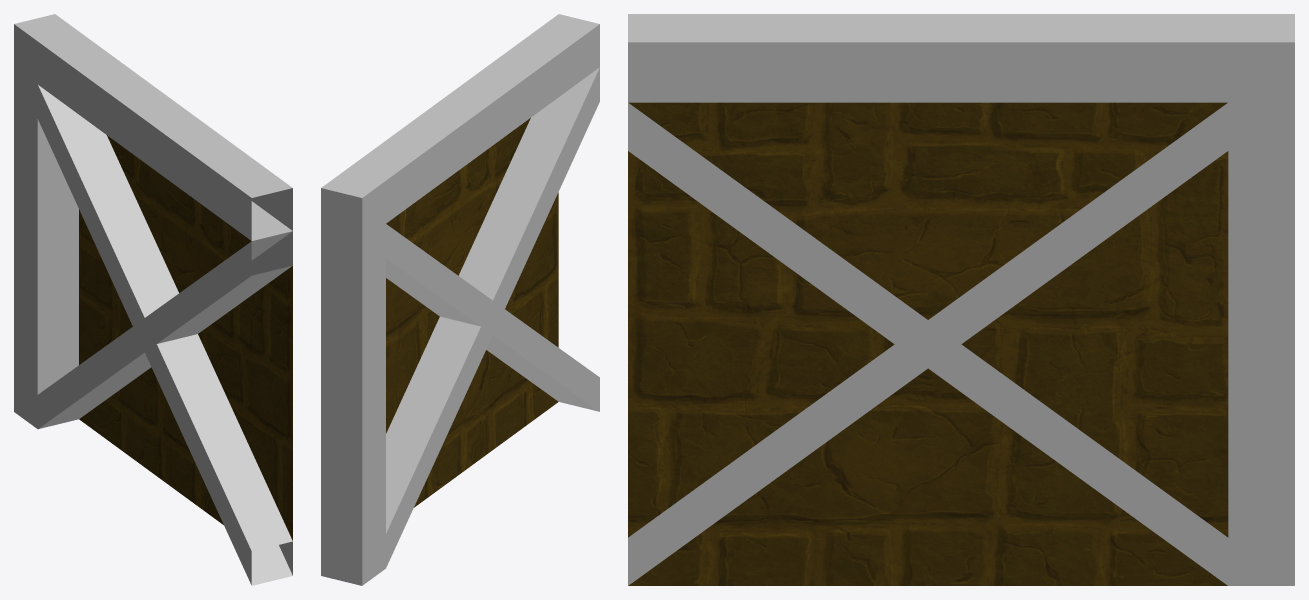
Rendered from WallCrossJoin.fbx.
3 views of the same model, side by side, from view 1: azimuth 30°, elevation 25°; view 2: azimuth 150°, elevation 25°; view 3: azimuth 270°, elevation 25° (orthographic). The views are drawn at different scales.
Parts seen in each view (by area): view 1: WallCrossJoin; view 2: WallCrossJoin; view 3: WallCrossJoin.
Boxes of the visible parts, x1=… form: WallCrossJoin: x1=14, y1=14, x2=292, y2=585; WallCrossJoin: x1=321, y1=14, x2=599, y2=585; WallCrossJoin: x1=628, y1=14, x2=1294, y2=585.
Bounding box in the file's own units: 1 × 9 × 10.
